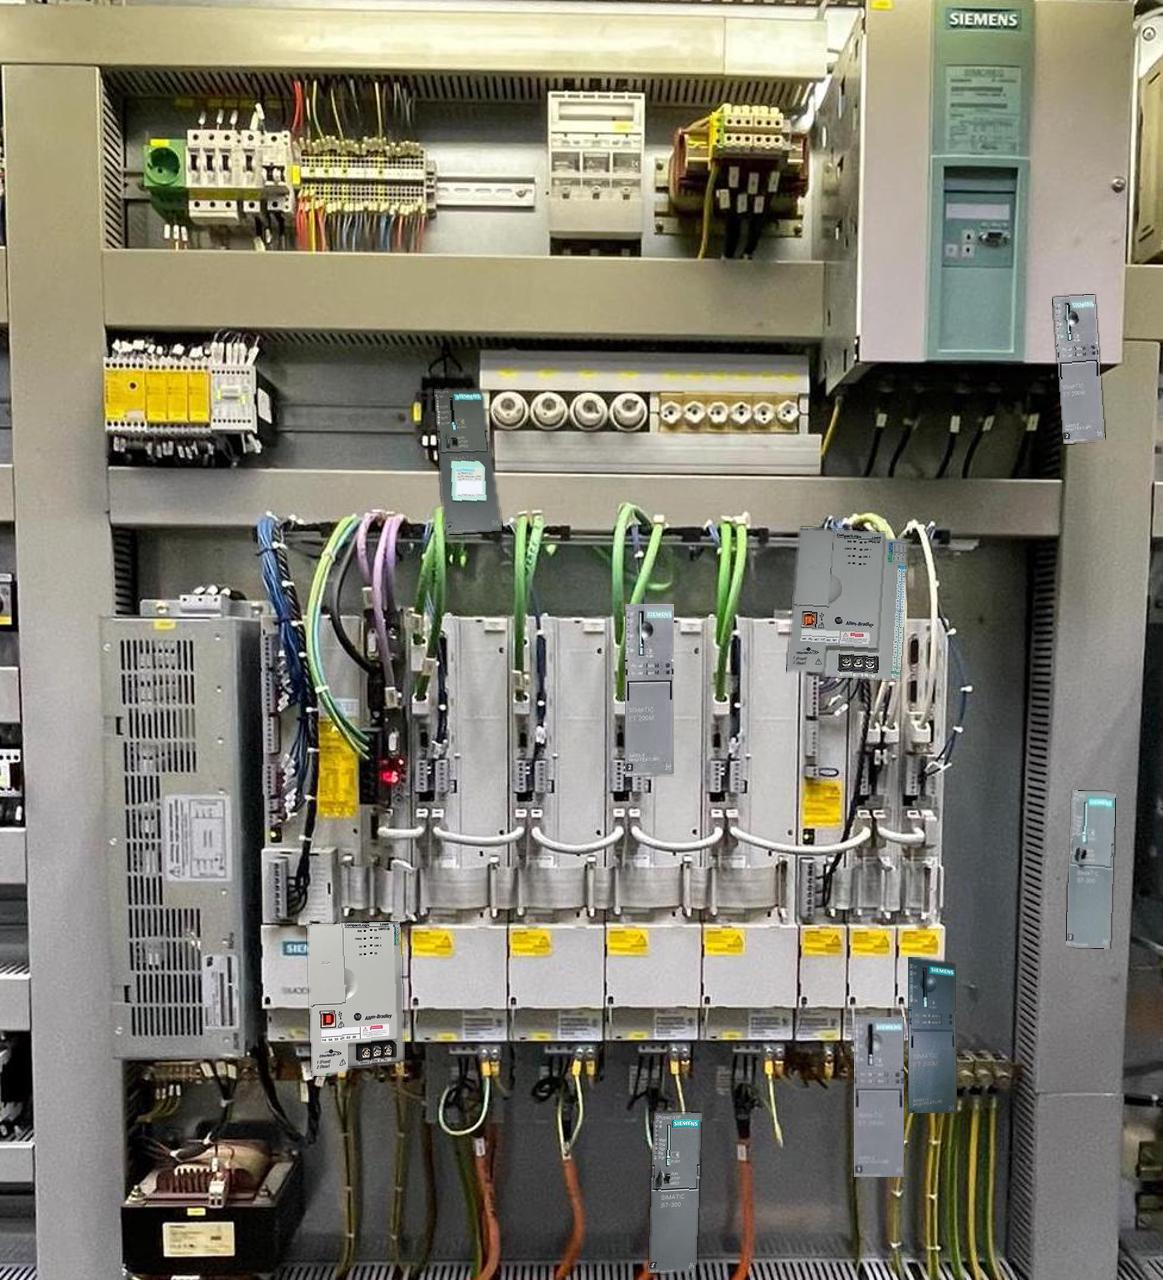AllenBradley: (787, 527, 907, 680), (307, 922, 403, 1076)
Siemens: (434, 389, 501, 534), (649, 1112, 700, 1272), (1066, 791, 1115, 948)
